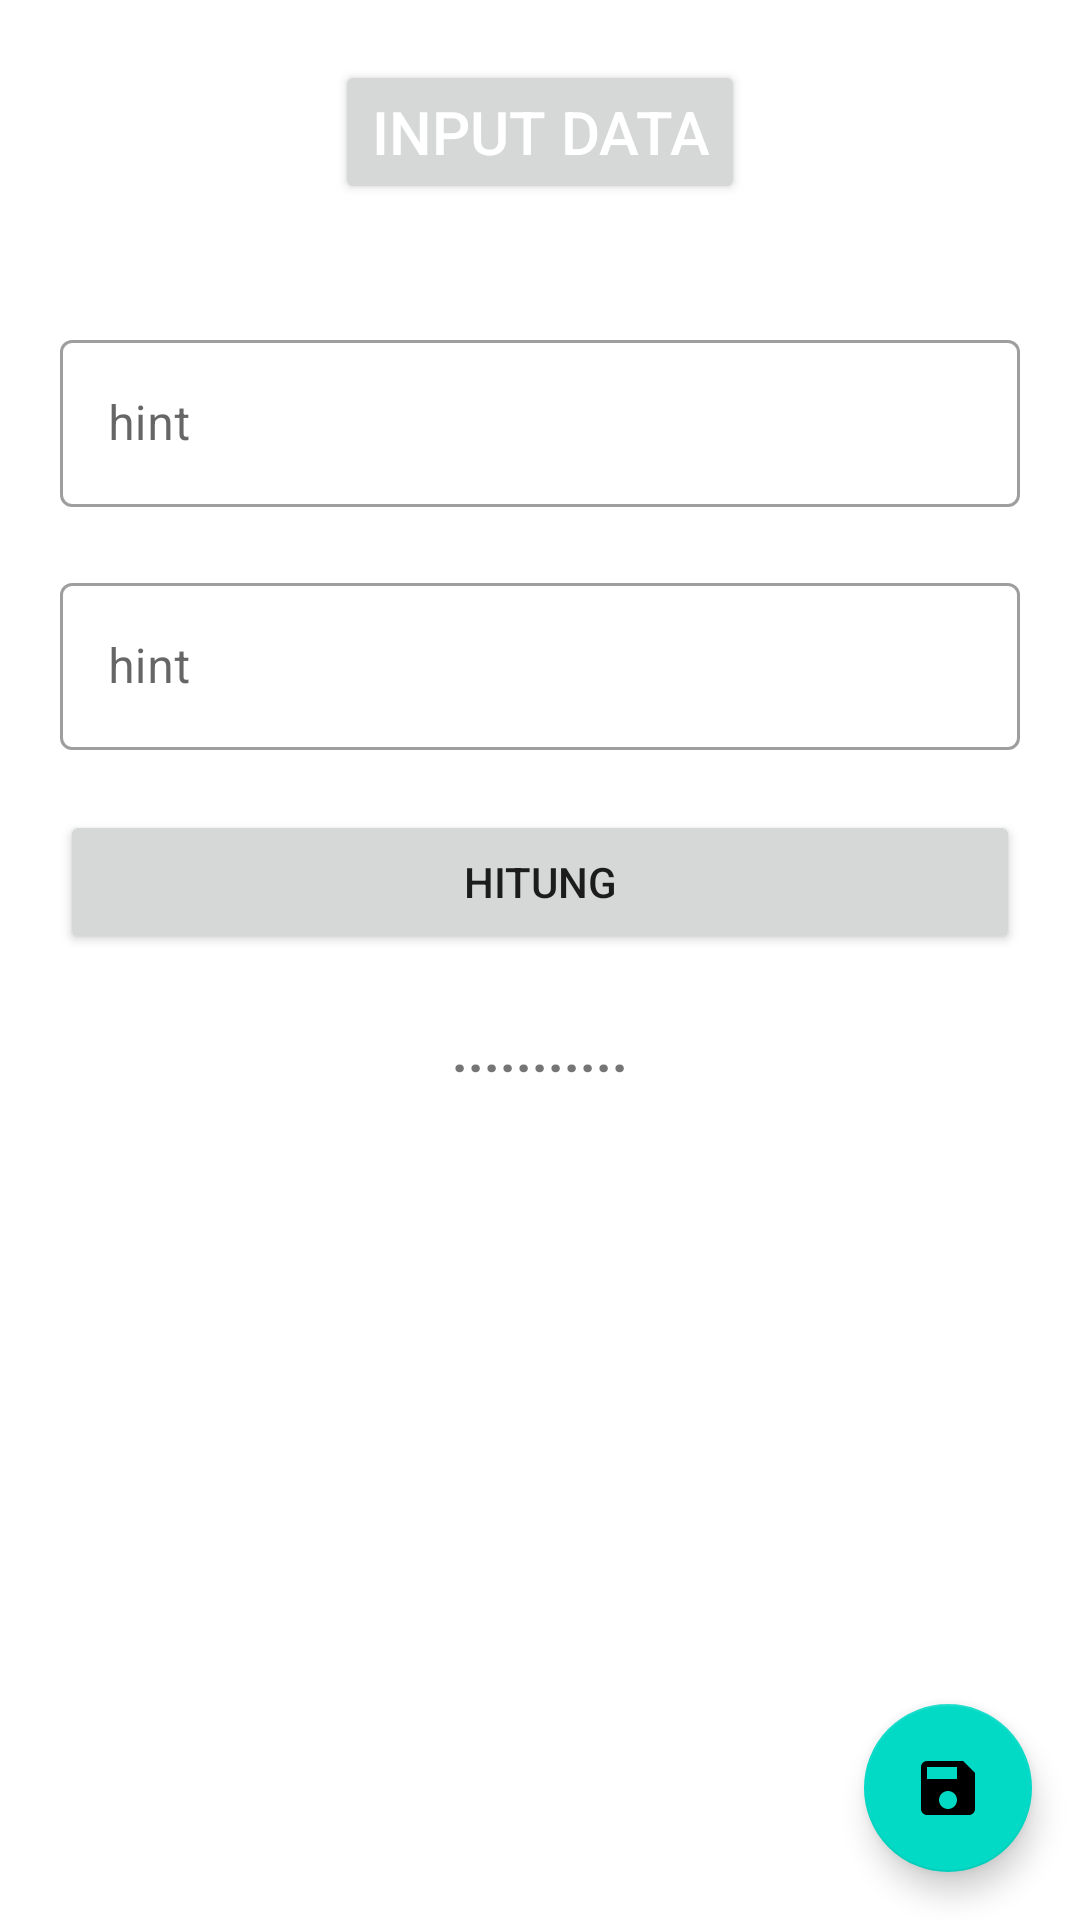

Point at icon controls on the screen. Image size 1080 × 1920, points as point (x, y).
Simpan: point (948, 1788)
